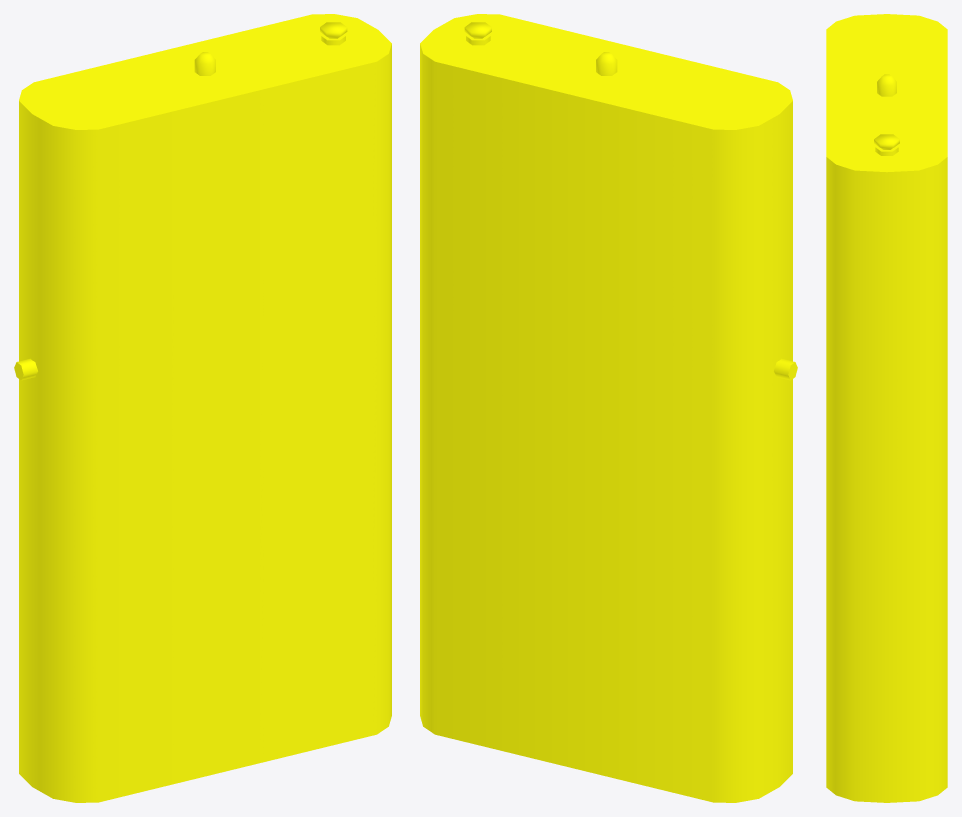
Rendered from spirit_box.glb.
3 views of the same model, side by side, from view 1: azimuth 30°, elevation 25°; view 2: azimuth 150°, elevation 25°; view 3: azimuth 270°, elevation 25° (orthographic). The views are drawn at different scales.
Parts seen in each view (by area): view 1: spbox; view 2: spbox; view 3: spbox, spbox_antenna.
Part boxes in pixels (left/top/right/bottom): spbox: left=19, top=14, right=391, bottom=802; spbox: left=420, top=14, right=792, bottom=802; spbox: left=826, top=14, right=947, bottom=802; spbox_antenna: left=874, top=134, right=899, bottom=149.
Bounding box in the file's own units: 0.0689 × 0.1265 × 0.0214.
1 material, 1 textured.
